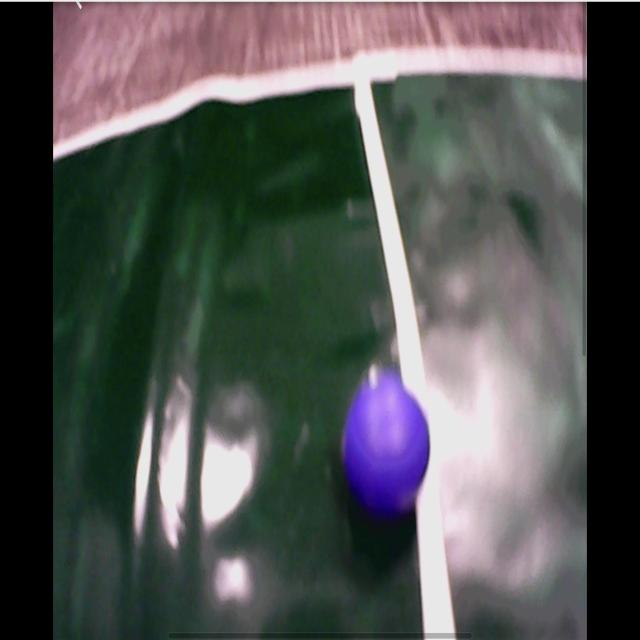ball: (345, 380, 433, 518)
